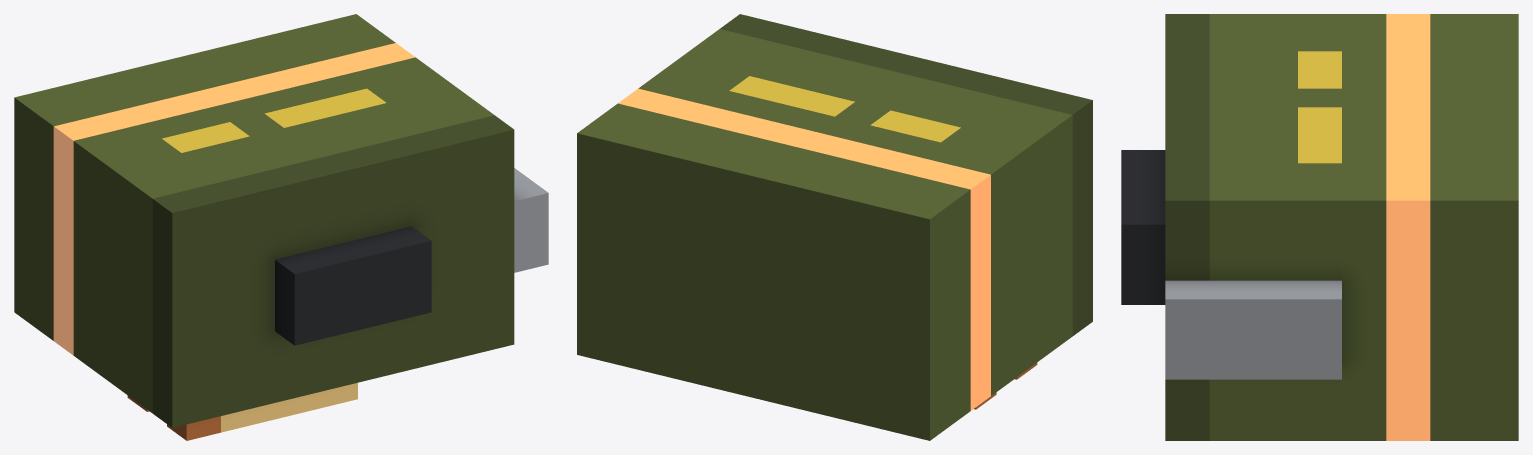
The model's file is ammo.glb.
The picture shows the model from 3 angles, left to right: view 1: azimuth 30°, elevation 25°; view 2: azimuth 150°, elevation 25°; view 3: azimuth 270°, elevation 25°; orthographic projection. The views are drawn at different scales.
Visible parts, largest first — view 1: ammo_body; view 2: ammo_body; view 3: ammo_body.
Boxes of the visible parts, bbox=[...] form: ammo_body: bbox=[14, 14, 548, 440]; ammo_body: bbox=[577, 14, 1092, 440]; ammo_body: bbox=[1121, 14, 1518, 440].
Bounding box in the file's own units: 0.4297 × 0.2734 × 0.3516.
1 material, 1 textured.
